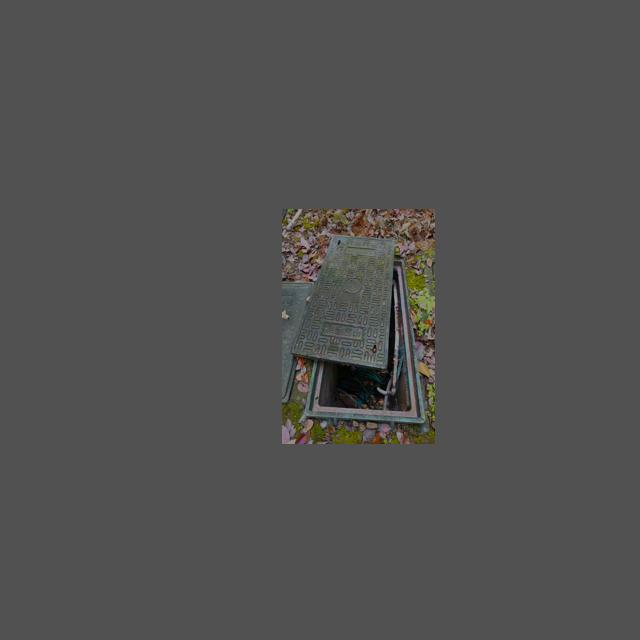uncovered: (292, 233, 428, 434)
